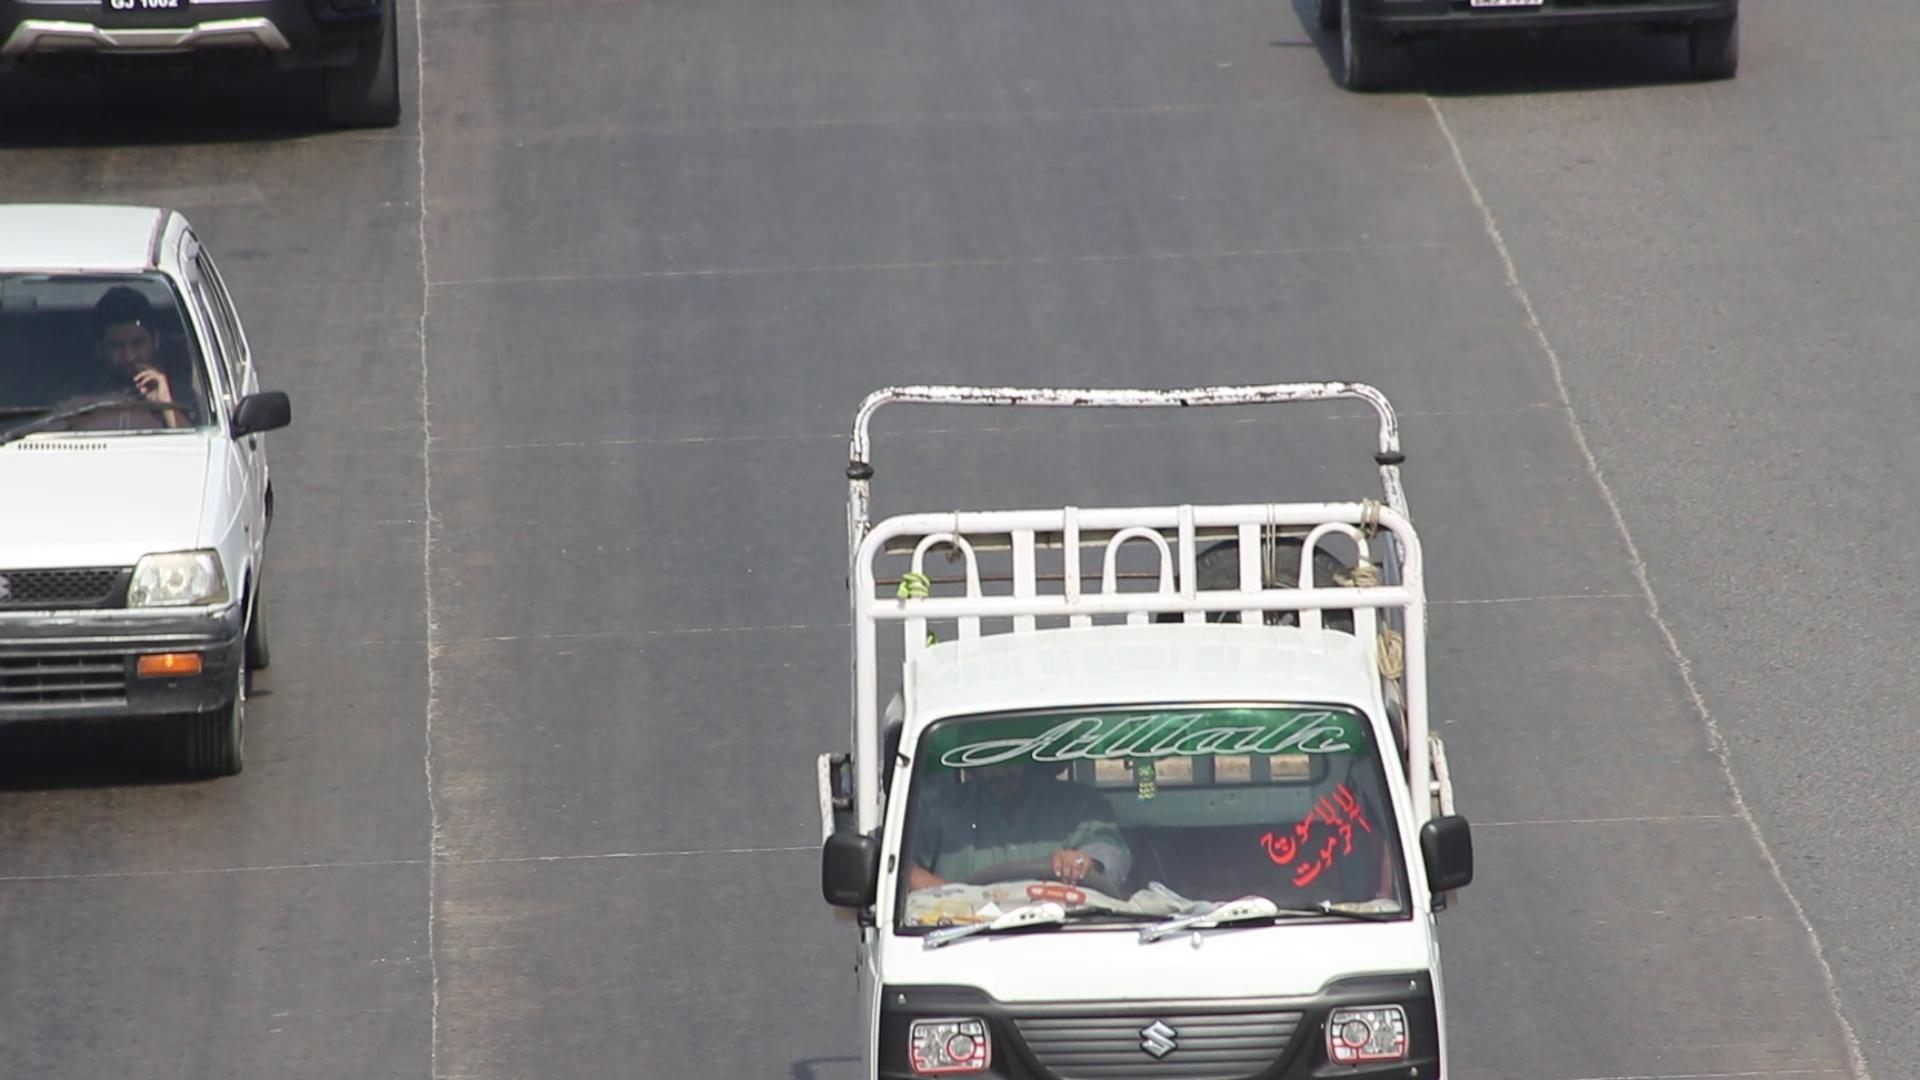windshield: (868, 680, 1431, 967)
